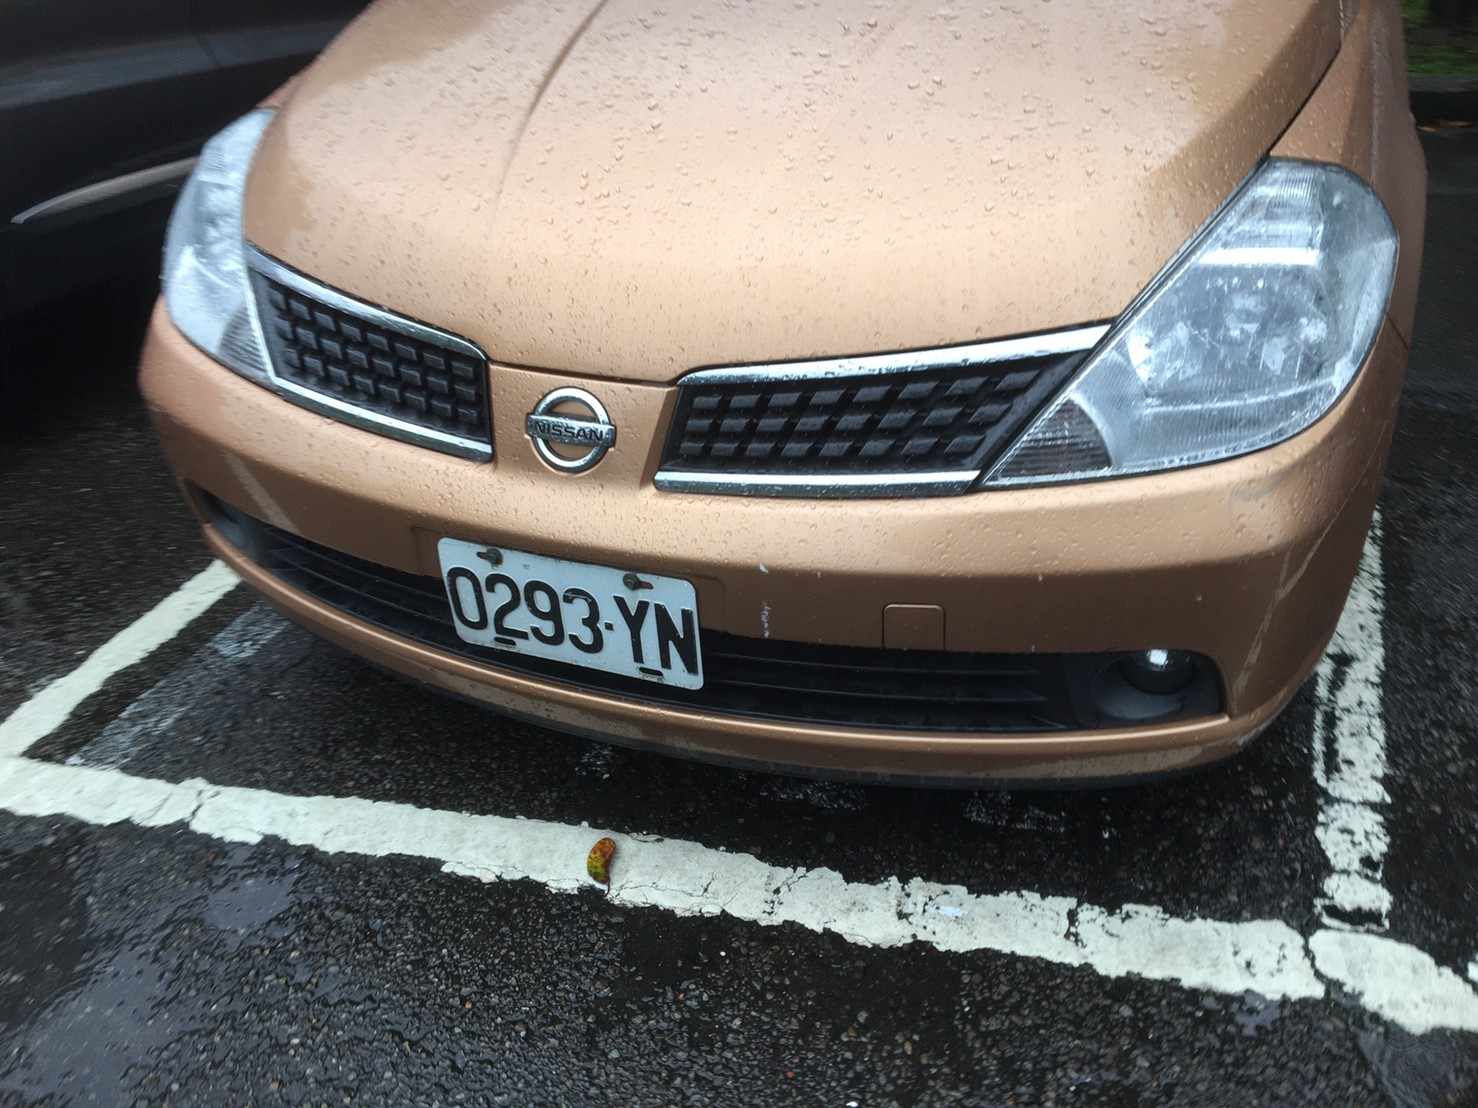LP: (426, 533, 711, 698)
